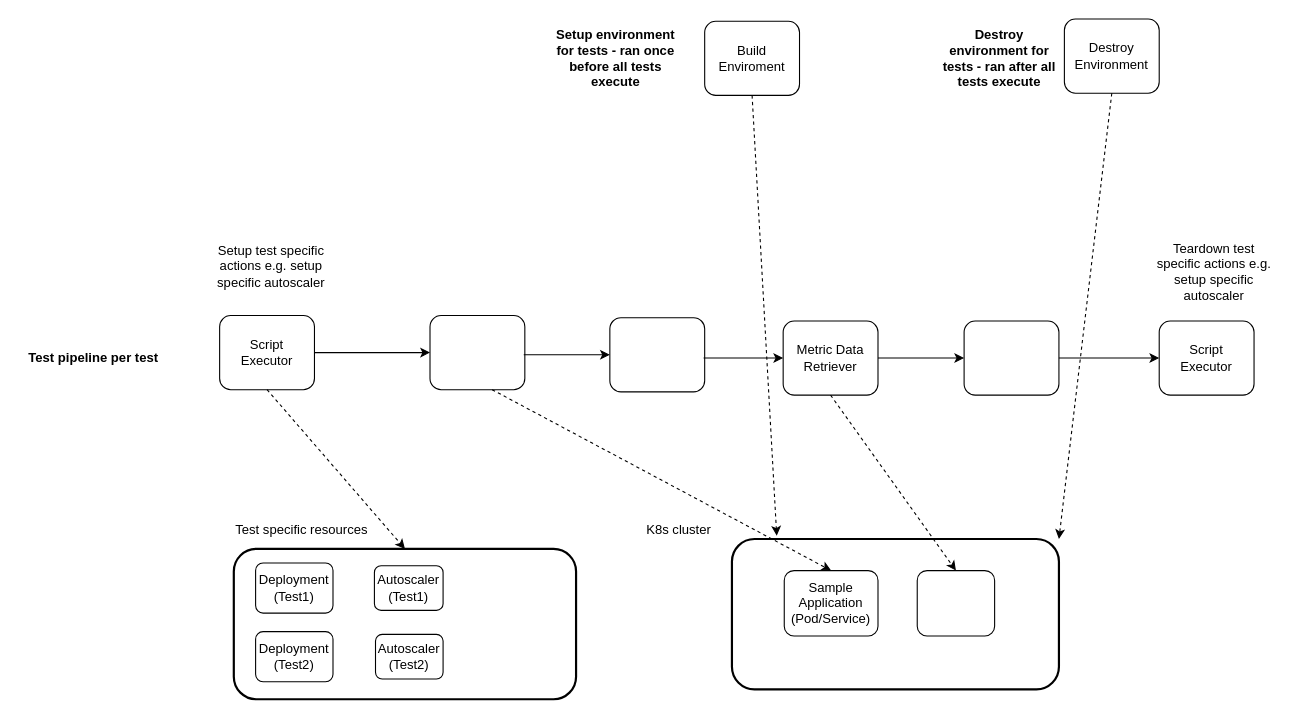
This 1292x719 diagram has some shape labels left out. Each missing label, with the centre of its shape:
Load Tester: the point at 477,352
Prometheus API: the point at 955,603
Result Creator: the point at 1011,357
Result Parser: the point at 657,354
